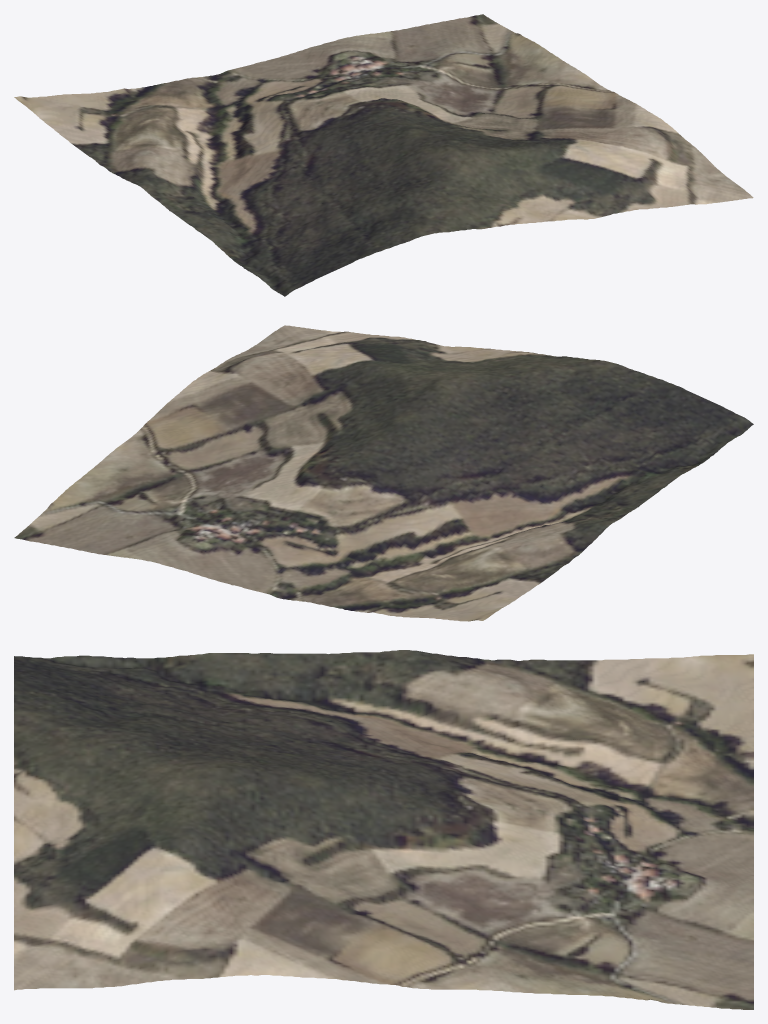
File: tile_2_5.glb
The picture shows the model from 3 angles, top to bottom: view 1: azimuth 30°, elevation 25°; view 2: azimuth 150°, elevation 25°; view 3: azimuth 270°, elevation 25°; orthographic projection. The views are drawn at different scales.
Parts seen in each view (by area): view 1: tile_2_5; view 2: tile_2_5; view 3: tile_2_5.
Boxes of the visible parts, x1,y1,x2,y2 form: tile_2_5: [14, 14, 753, 296]; tile_2_5: [14, 325, 753, 621]; tile_2_5: [14, 650, 753, 1009].
Bounding box in the file's own units: 1000 × 132 × 1000.
1 material, 1 textured.
